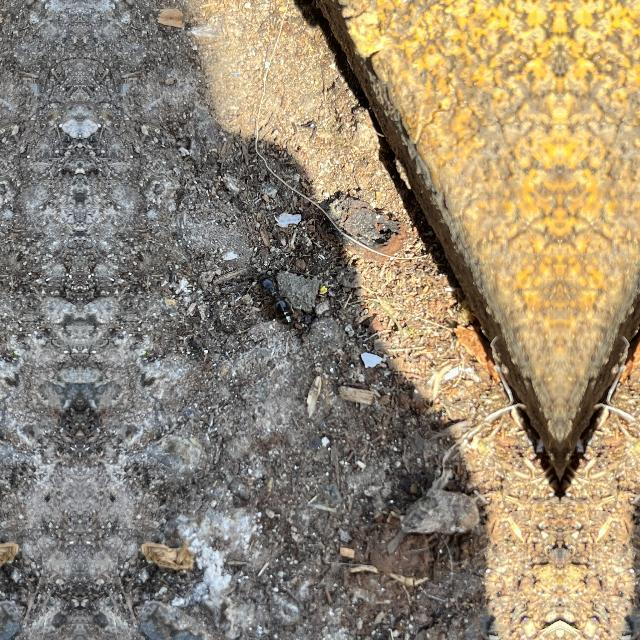Tetramorium: (249, 261, 313, 337)
